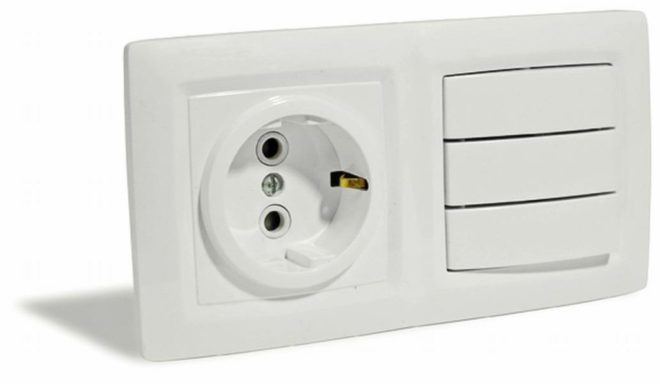raccoon: (224, 112, 373, 279)
